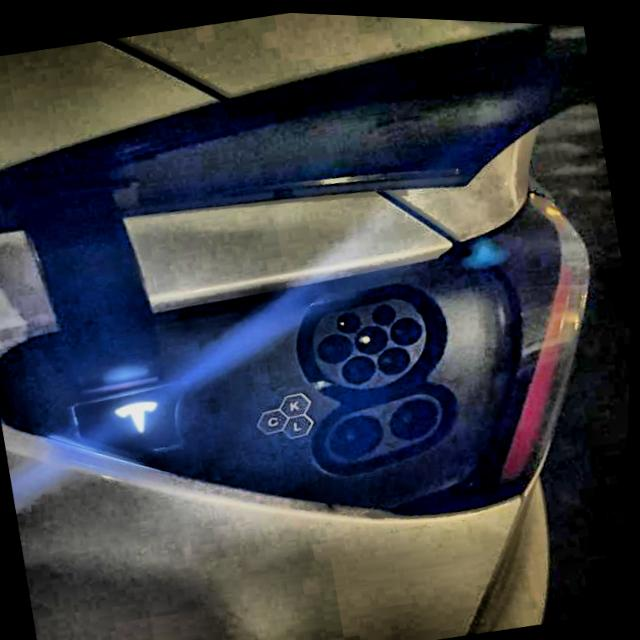inlet: (315, 295, 428, 386)
inlet-above-left: (339, 309, 363, 330)
inlet-above-right: (374, 301, 399, 322)
inlet-below-left: (344, 352, 378, 381)
inlet-below-right: (380, 343, 412, 371)
inlet-center: (357, 322, 390, 352)
inlet-center-left: (320, 330, 355, 360)
inlet-center-right: (392, 314, 425, 343)
